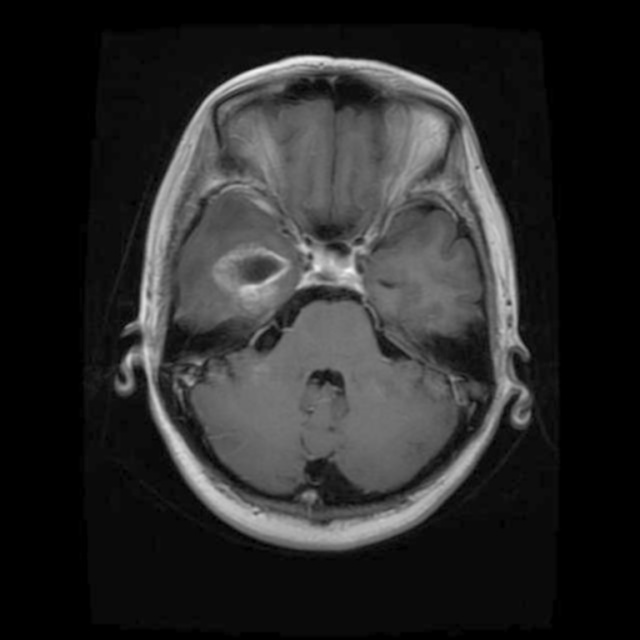pituitary tumor: (206, 246, 289, 298)
